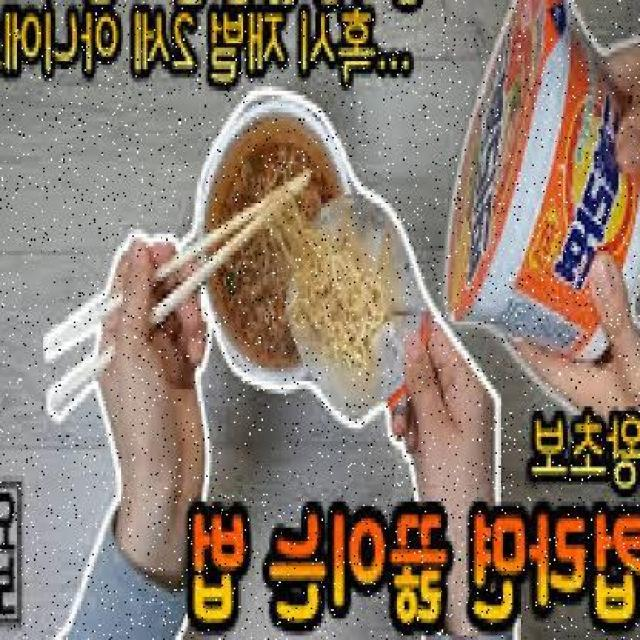Miscellaneous: (440, 0, 640, 354)
